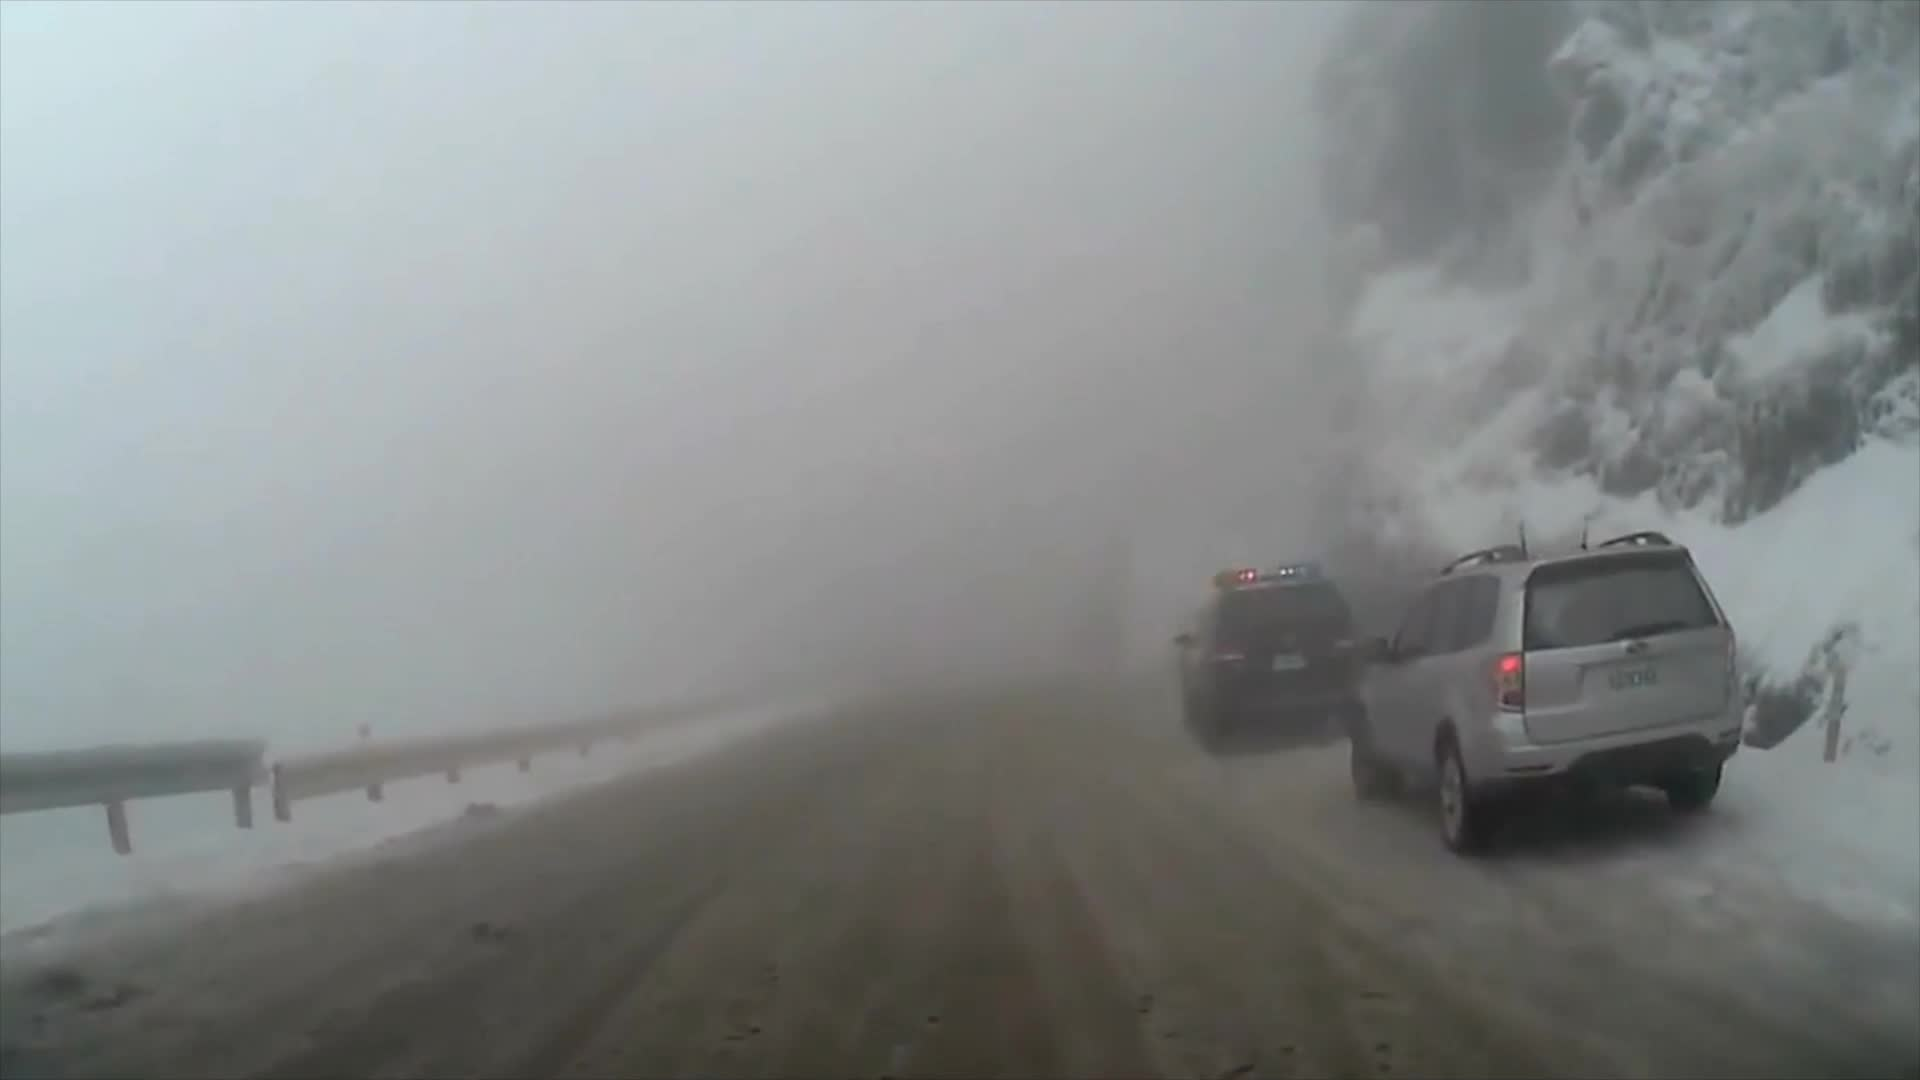vehicle: (1346, 527, 1749, 853), (1171, 550, 1369, 744)
